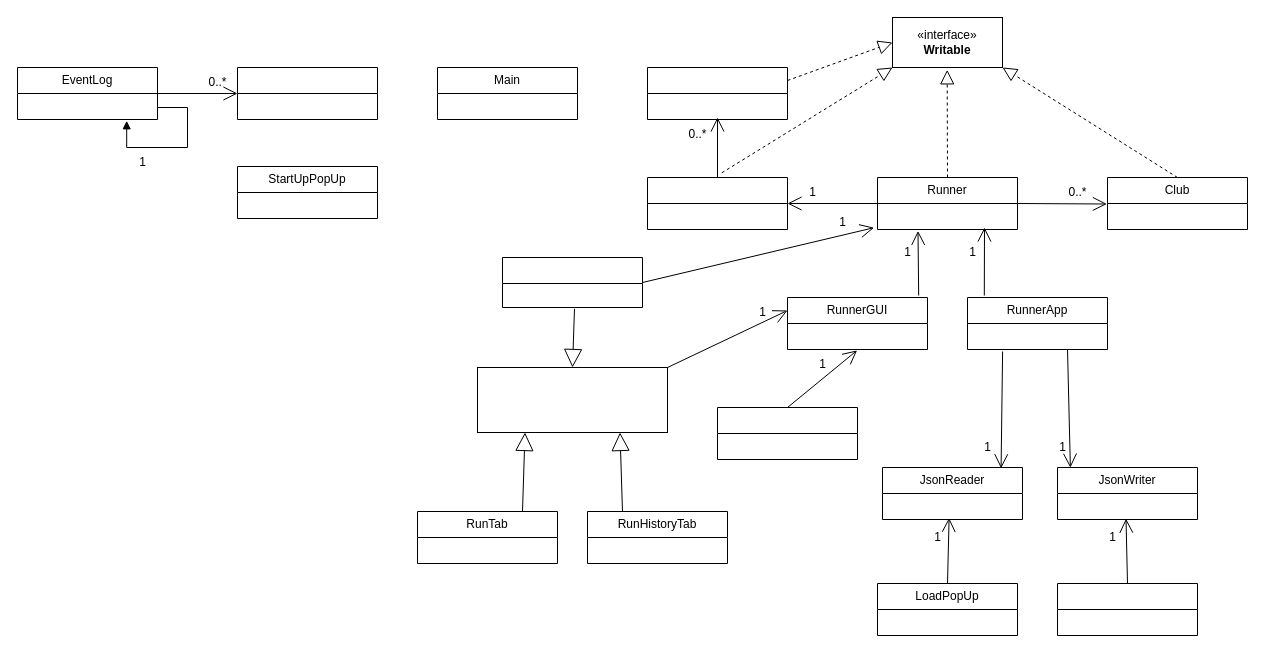
This 1265x653 diagram has some shape labels left out. Each missing label, with the centre of its shape:
"<<abstract>> Tab" goes at [572,399].
"Event" goes at [307,93].
"MainMenuTab" goes at [572,282].
"PopUp" goes at [787,433].
"Run" goes at [717,93].
"RunHistory" goes at [717,203].
"SavePopUp" goes at [1127,609].
